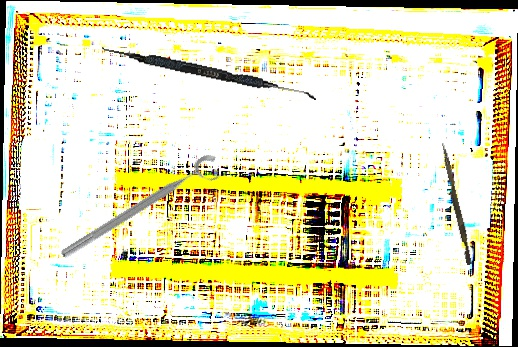Fixation Ring: (57, 150, 227, 272)
Pusher: (437, 142, 475, 266)
Spatula Surgical: (99, 45, 319, 100)
